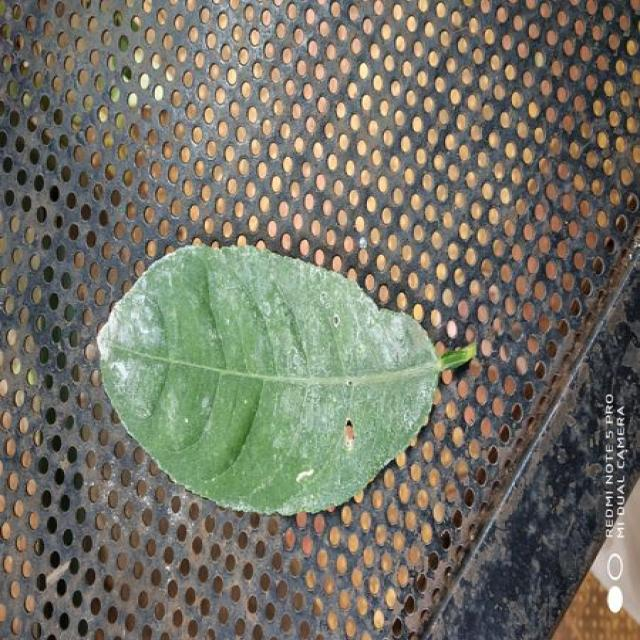badipala: (97, 246, 477, 514)
defectedbadipala: (193, 246, 477, 514)
